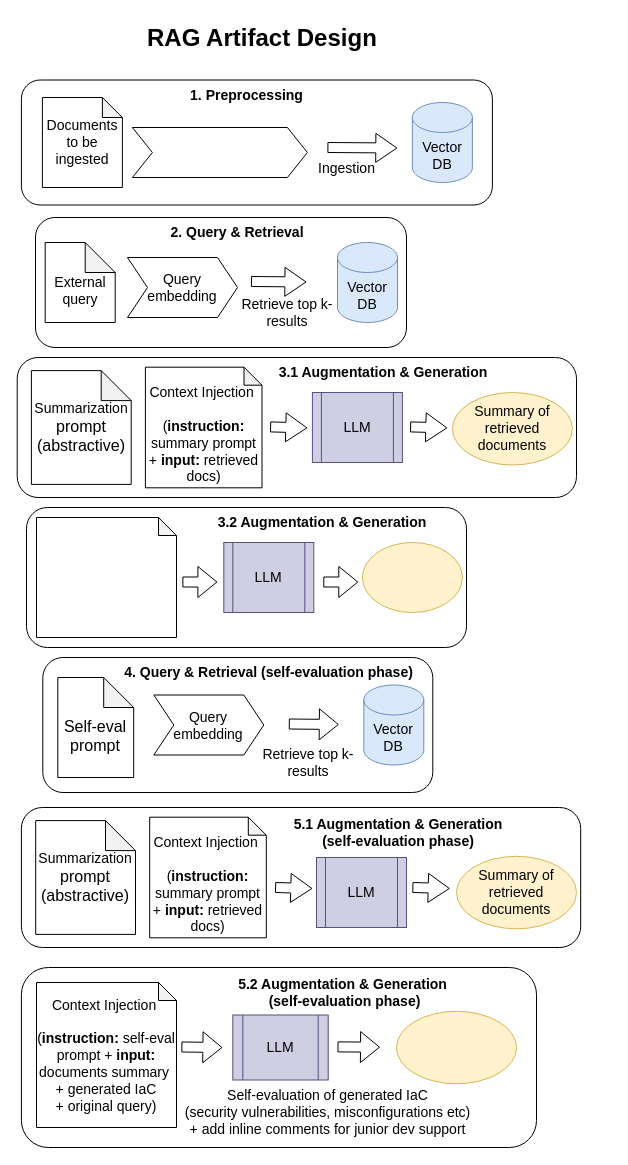
Image size: 628x1165. Some labels were removed from this diagram. The centre of each missing label's shape, as x and y in pixels:
Context Injection ( instruction: external query + input: documents summary): the point at 106,577
Document chunking & embedding: the point at 219,152
Generated IaC: the point at 411,577
Self-evaluated generated IaC: the point at 456,1047
